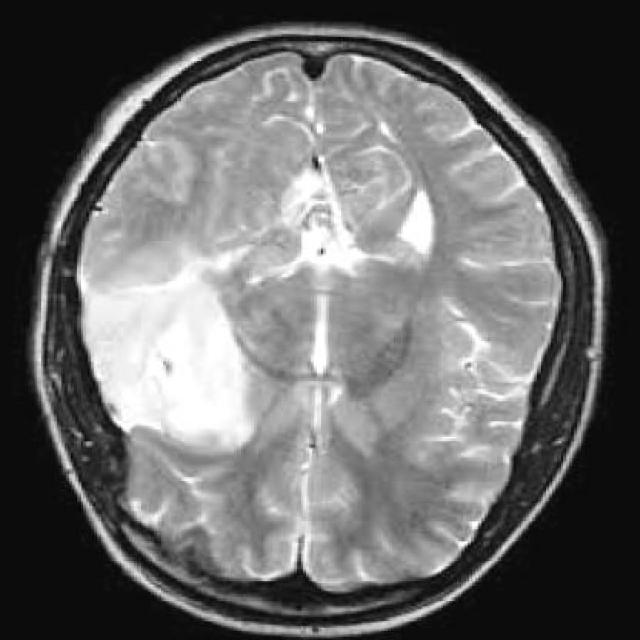Brain-Tumor: (78, 262, 280, 467)
